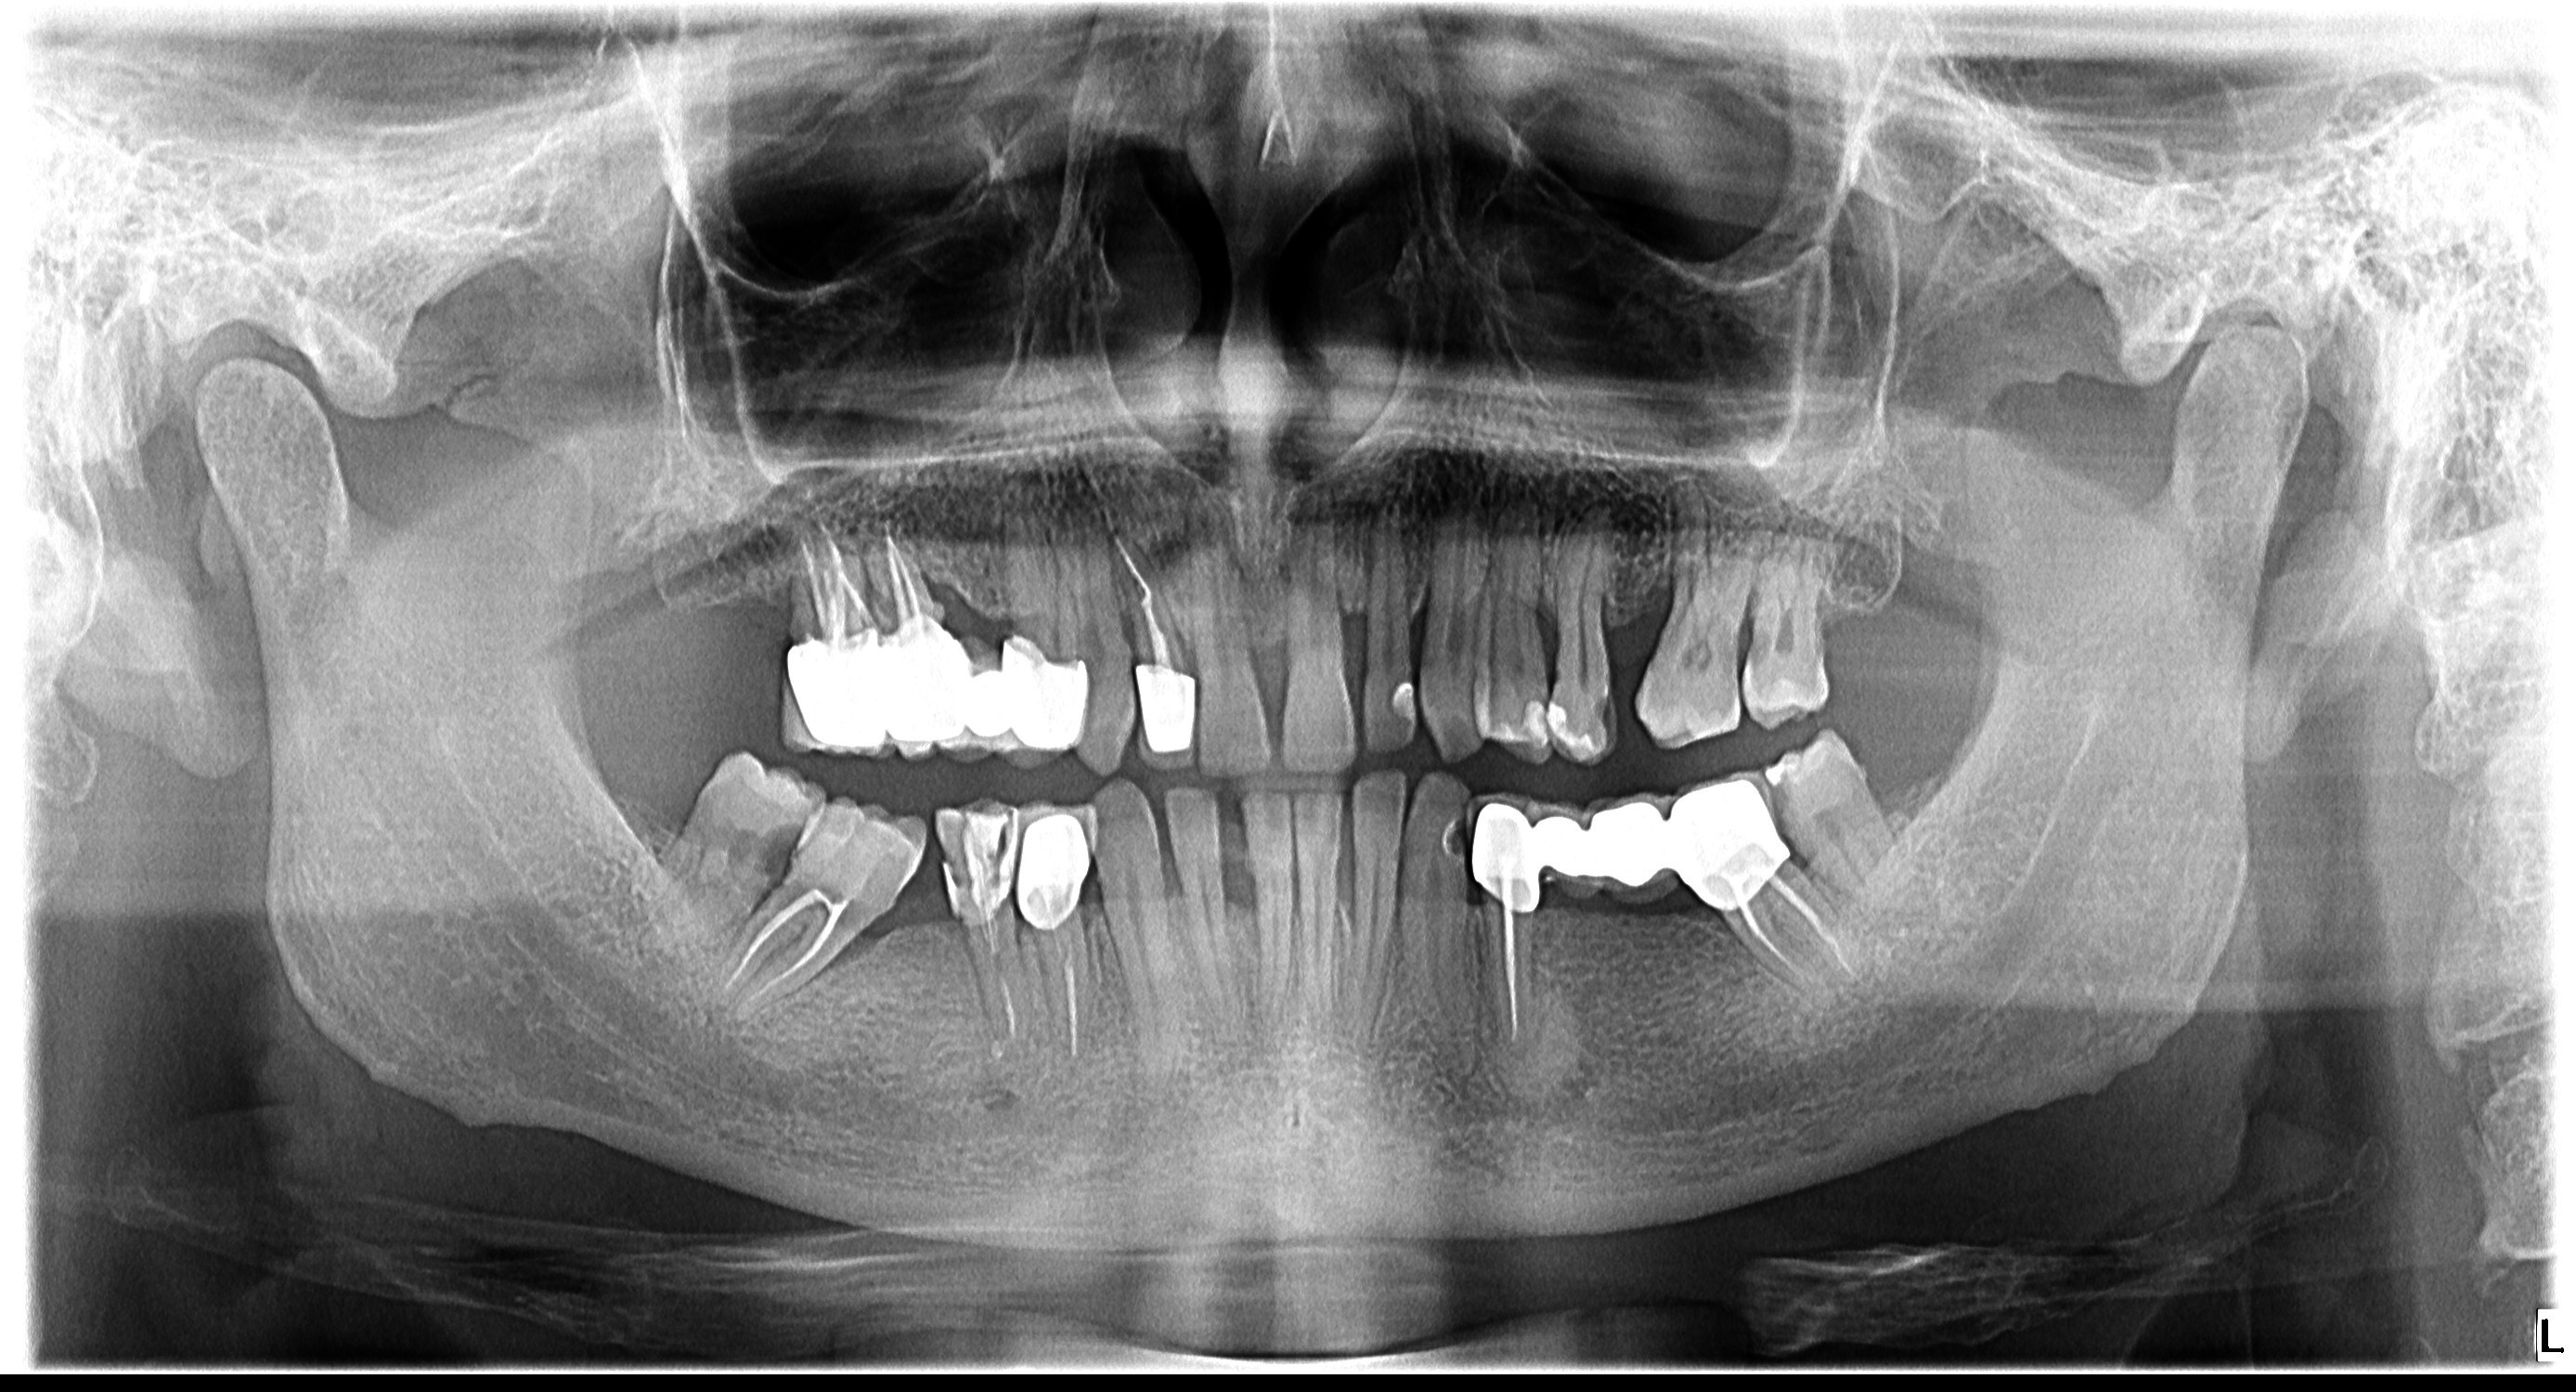BON: (807, 907, 915, 982), (1230, 619, 1297, 717), (1660, 886, 1747, 950), (904, 547, 992, 609), (1329, 571, 1380, 670), (1636, 550, 1687, 633), (1524, 579, 1574, 653), (1218, 871, 1267, 927), (1408, 561, 1440, 639), (1329, 869, 1360, 943), (1285, 866, 1309, 927)
CAR: (754, 799, 814, 890), (1425, 818, 1475, 867), (1756, 765, 1797, 819), (767, 619, 819, 662), (1738, 622, 1776, 677), (1579, 686, 1613, 729)
END: (699, 885, 865, 1013), (1737, 891, 1877, 1017), (1103, 516, 1184, 672), (778, 504, 867, 638), (971, 921, 1035, 1087), (1480, 909, 1538, 1063), (1050, 919, 1094, 1082), (884, 504, 918, 641)
OBT: (928, 813, 1028, 921), (803, 809, 908, 900), (1490, 689, 1552, 763), (1536, 706, 1608, 768), (1380, 679, 1428, 729)
PRR: (752, 626, 1091, 783), (1454, 771, 1773, 900), (990, 801, 1106, 927), (1129, 655, 1201, 780)
